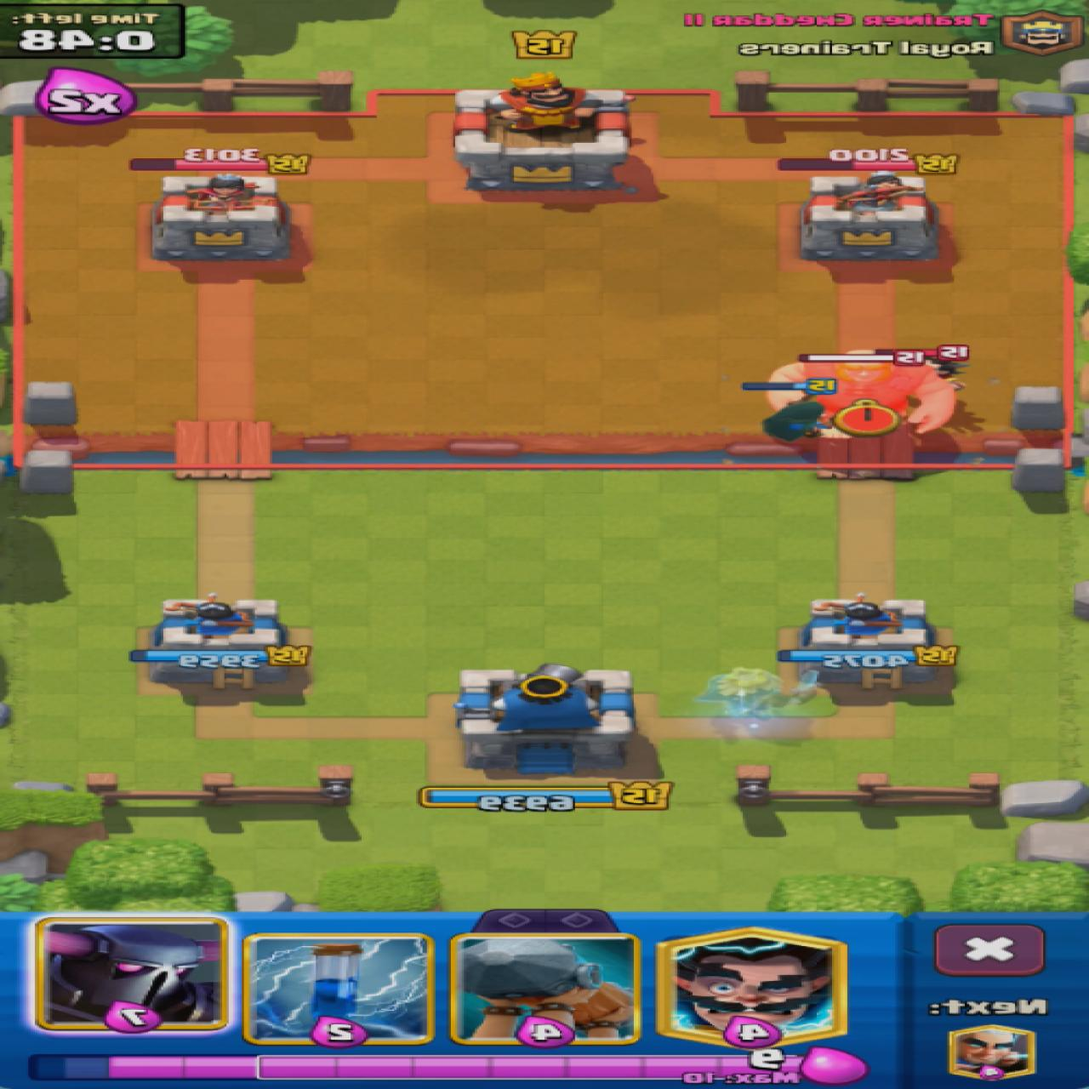Enemy-ElectroWizard: (930, 360, 967, 389)
Enemy-Giant: (821, 367, 954, 432), (775, 364, 815, 380), (773, 392, 799, 408)
Enemy-KingTower: (455, 73, 629, 192)
Enemy-PrincessTower: (799, 173, 939, 262), (152, 175, 290, 262)
